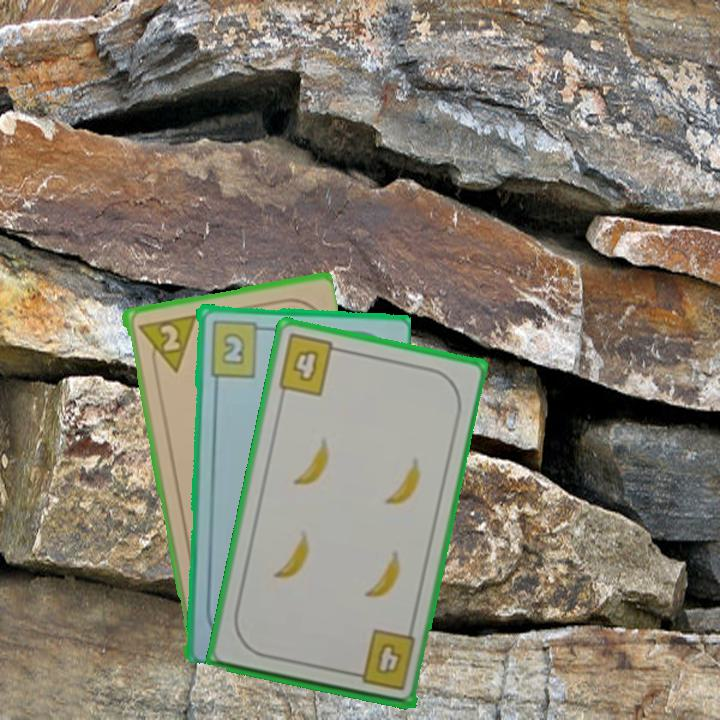2b: (206, 317, 269, 379)
2p: (132, 311, 197, 377)
4b: (274, 330, 347, 399), (346, 626, 418, 694)
